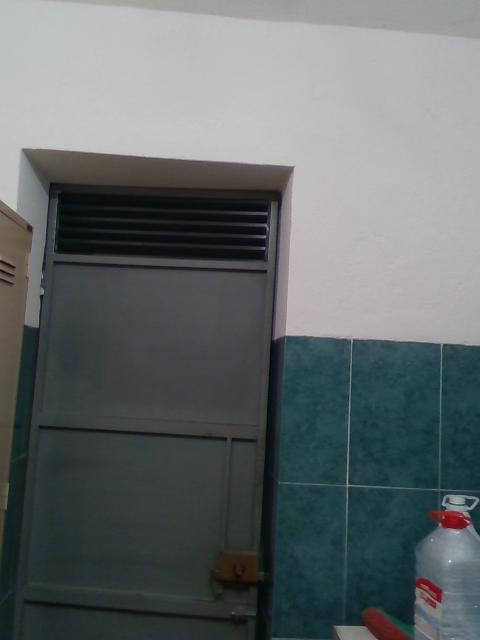door: (12, 185, 280, 640)
